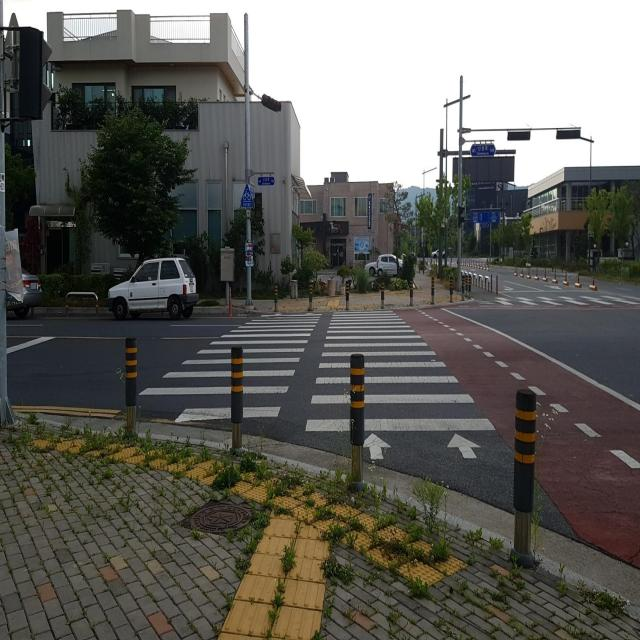횡단보도: (138, 308, 496, 459), (494, 293, 640, 310)
